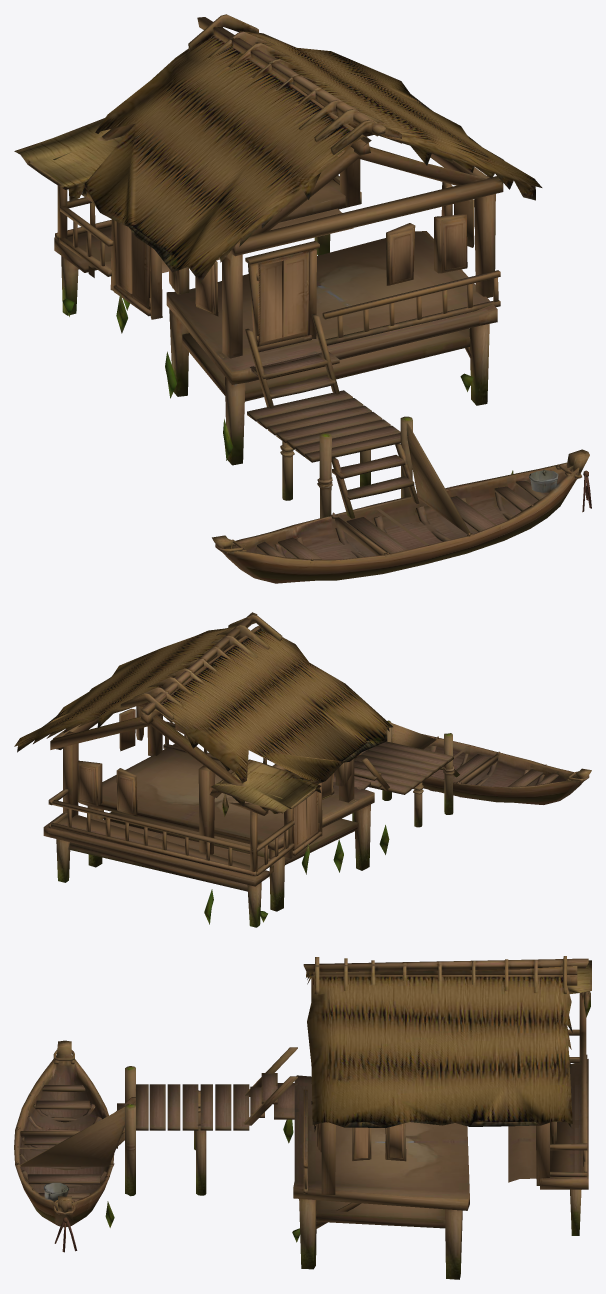
3 renders of one model, top to bottom at view 1: azimuth 30°, elevation 25°; view 2: azimuth 150°, elevation 25°; view 3: azimuth 270°, elevation 25°, orthographic. The views are drawn at different scales.
Parts seen in each view (by area): view 1: tripo_node_1dcae990-57c8-41a6-b729-81773c89eb83; view 2: tripo_node_1dcae990-57c8-41a6-b729-81773c89eb83; view 3: tripo_node_1dcae990-57c8-41a6-b729-81773c89eb83.
Boxes of the visible parts, left/top/right/bottom form: tripo_node_1dcae990-57c8-41a6-b729-81773c89eb83: left=14, top=14, right=591, bottom=583; tripo_node_1dcae990-57c8-41a6-b729-81773c89eb83: left=14, top=612, right=591, bottom=927; tripo_node_1dcae990-57c8-41a6-b729-81773c89eb83: left=14, top=956, right=591, bottom=1279.
Bounding box in the file's own units: 0.8223 × 0.5059 × 0.998.
1 material, 1 textured.
